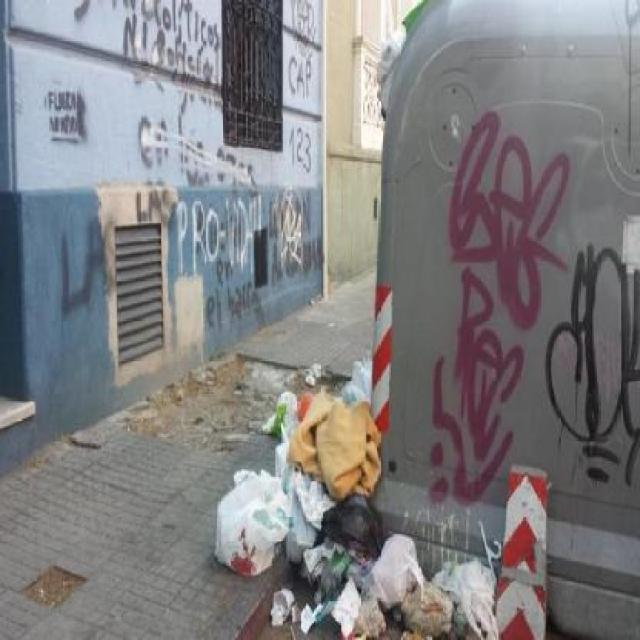garbage: (271, 362, 379, 638), (363, 509, 488, 638), (271, 566, 384, 638), (219, 454, 282, 582)
